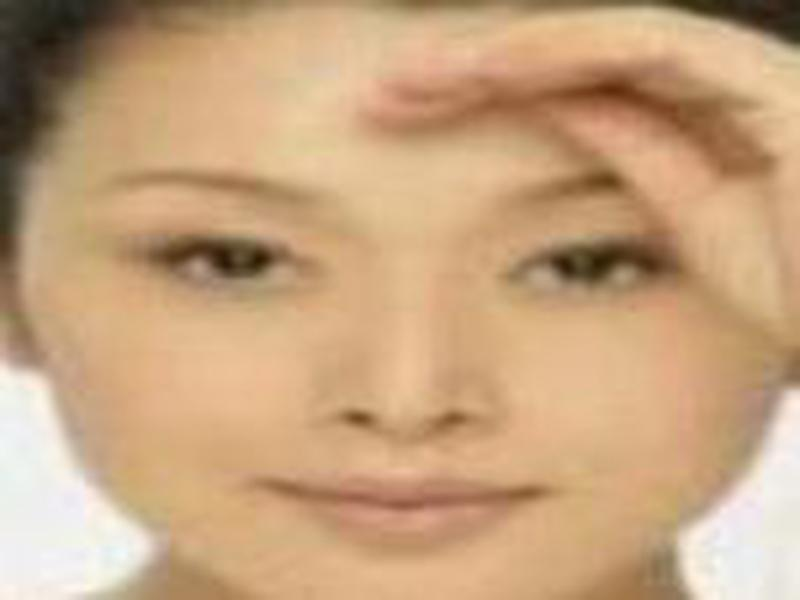without_mask: (21, 67, 768, 600)
